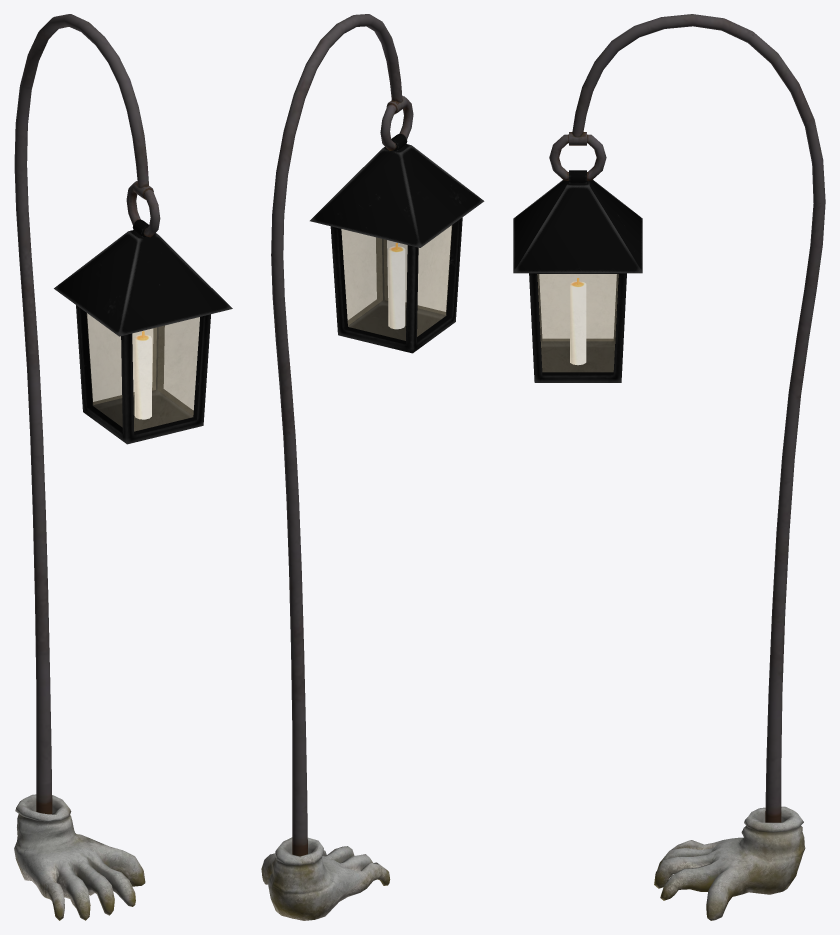
File: lanterne.glb
3 renders of one model, left to right at view 1: azimuth 30°, elevation 25°; view 2: azimuth 150°, elevation 25°; view 3: azimuth 270°, elevation 25°, orthographic. The views are drawn at different scales.
Parts seen in each view (by area): view 1: pCube11_lambert1_0, pCube12_blinn1_0; view 2: pCube11_lambert1_0, pCube12_blinn1_0; view 3: pCube11_lambert1_0, pCube12_blinn1_0.
Part boxes in pixels (x1=…): pCube11_lambert1_0: x1=14, y1=14, x2=232, y2=920; pCube12_blinn1_0: x1=87, y1=313, x2=199, y2=431; pCube11_lambert1_0: x1=261, y1=14, x2=484, y2=920; pCube12_blinn1_0: x1=341, y1=225, x2=451, y2=340; pCube11_lambert1_0: x1=513, y1=14, x2=825, y2=920; pCube12_blinn1_0: x1=537, y1=274, x2=618, y2=371.
Size of the model in its own units: 0.1226 by 0.8281 by 0.268.
Materials: 2 (2 with a texture image).
